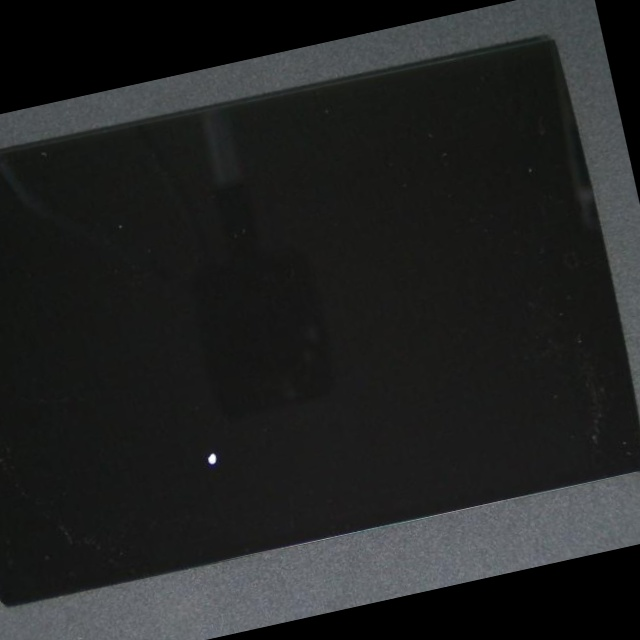stain: (41, 212, 368, 640)
